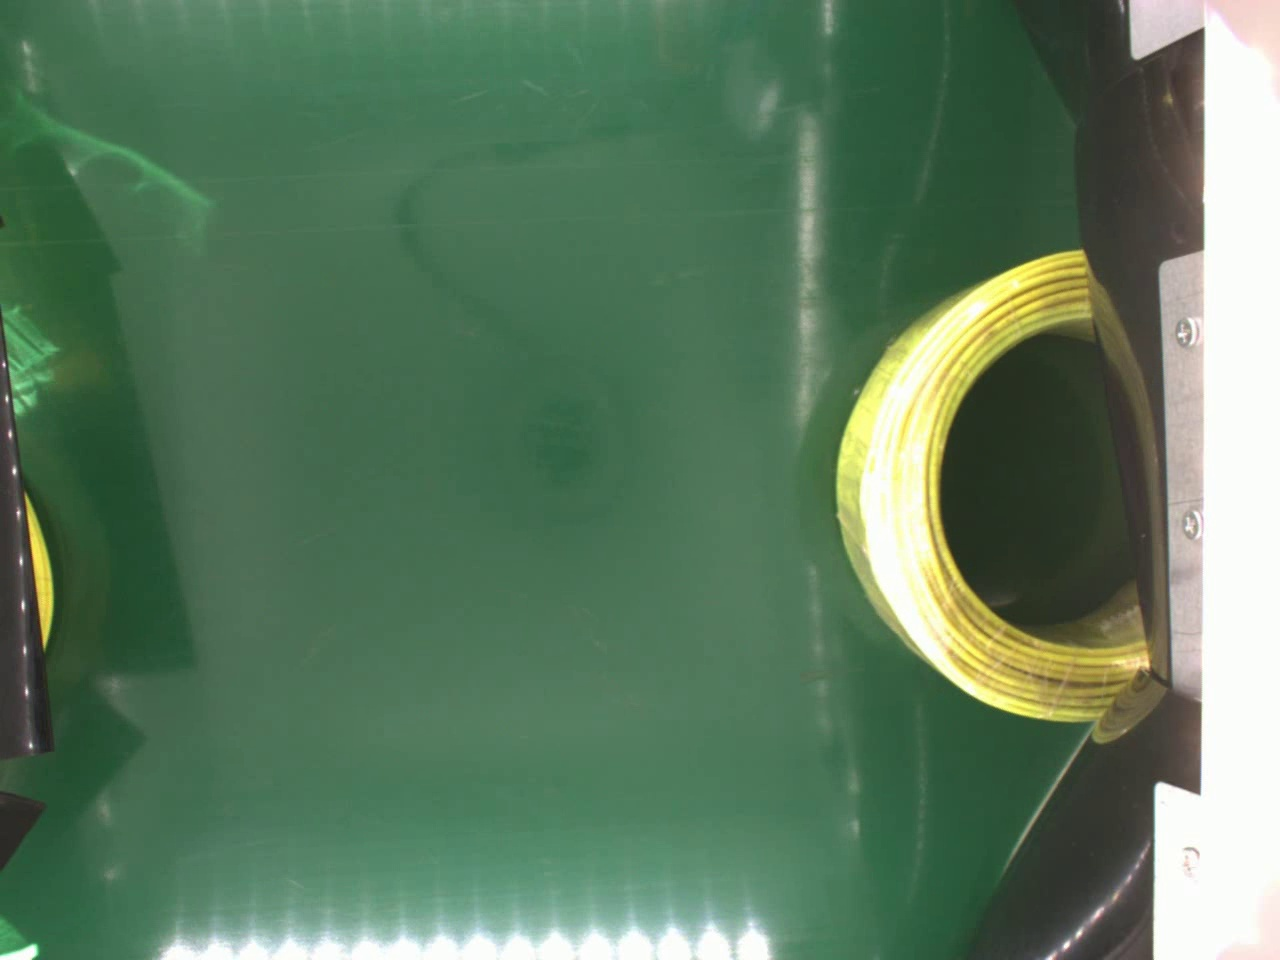yellow: (827, 249, 1144, 724)
